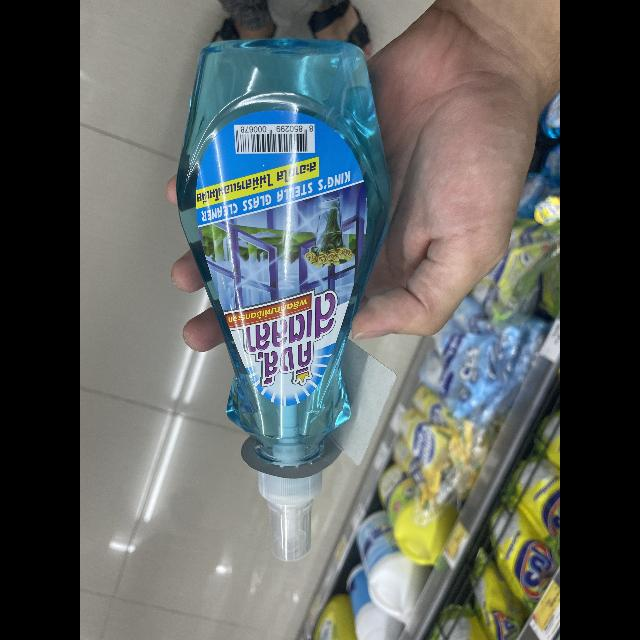chemical_plastic_bottle: (171, 34, 393, 566)
